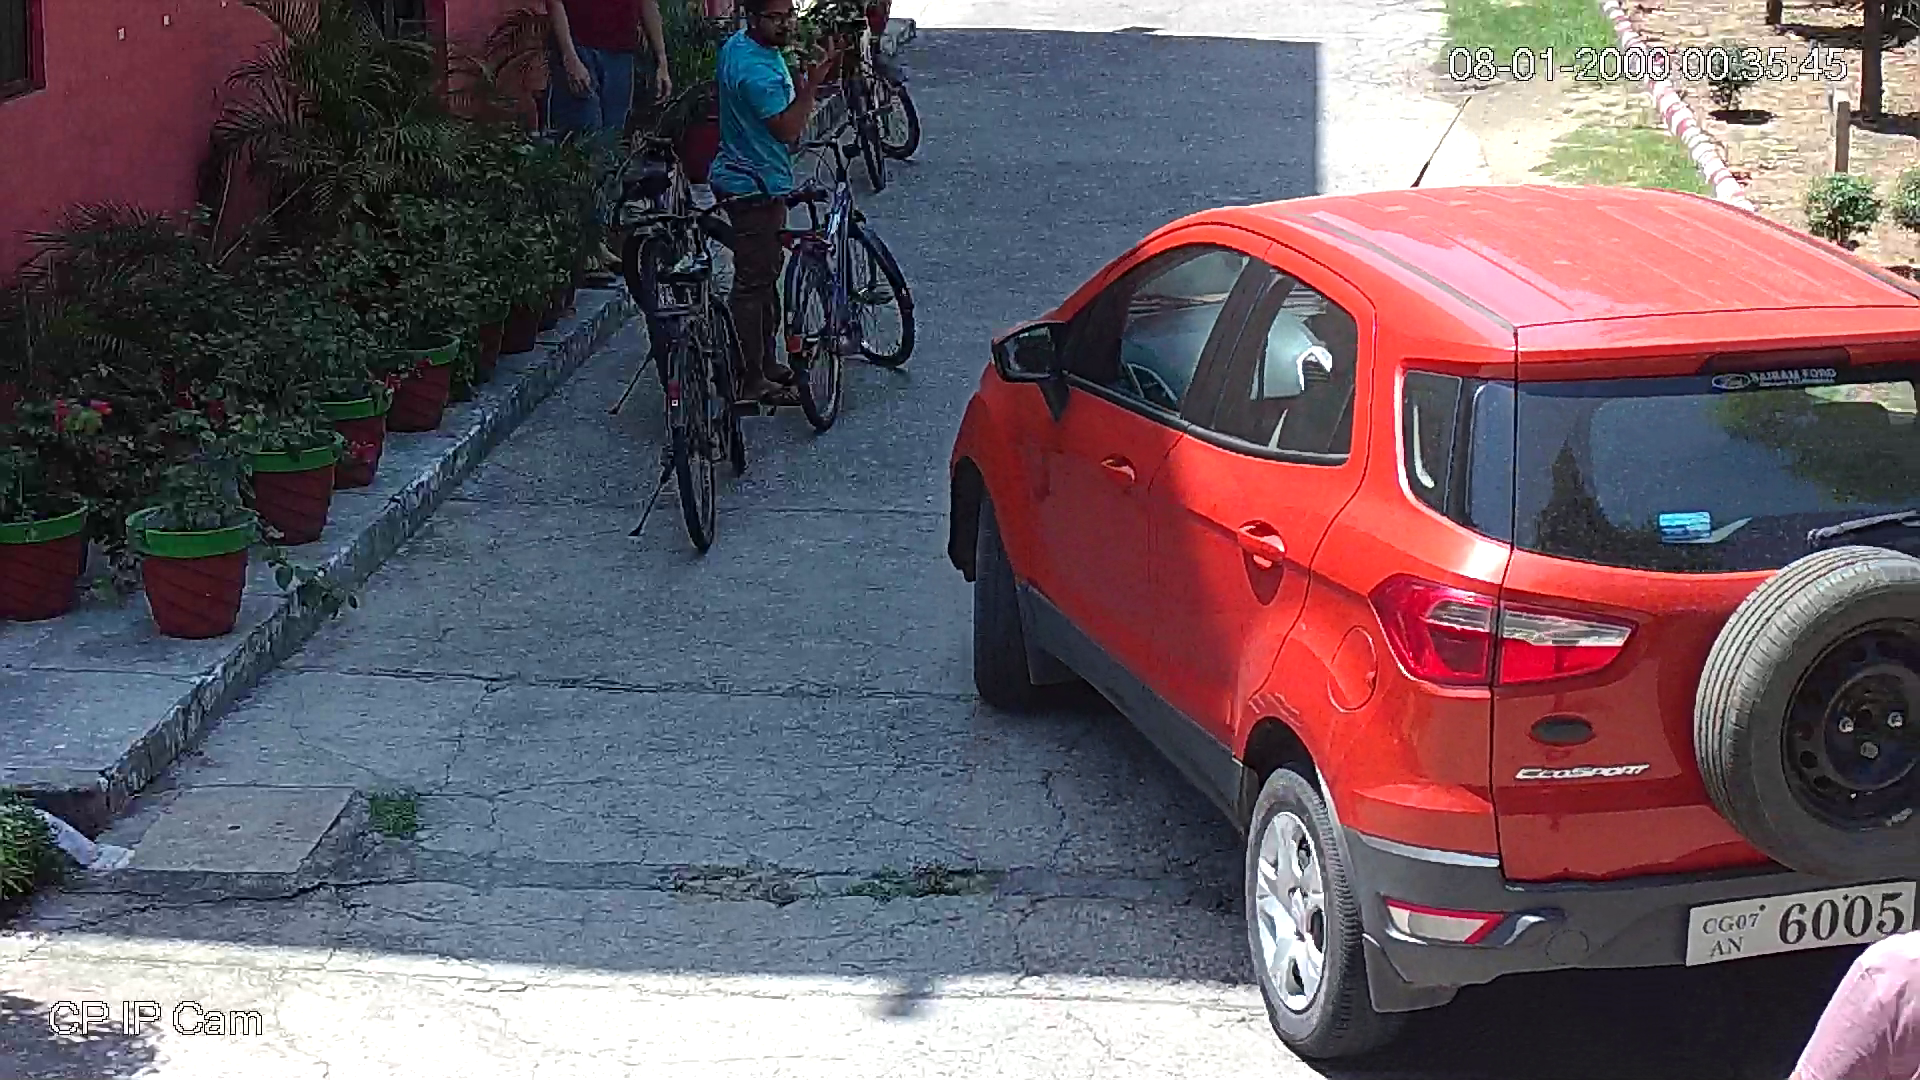plate: (1686, 881, 1912, 969)
